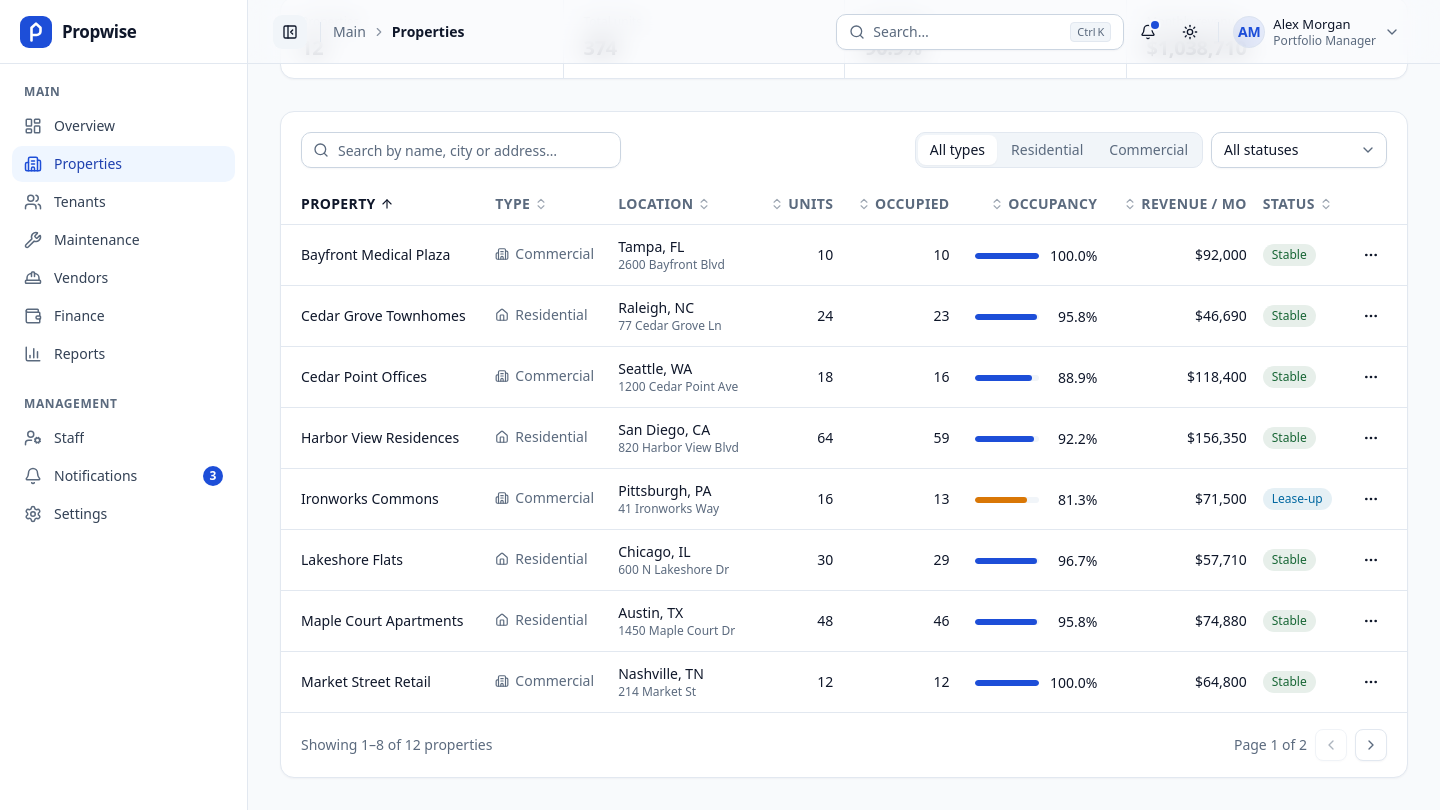
Scenario: Properties listing › opens property actions
(page scrolled)
Click the button named "Actions for Maple Court Apartments" at (1371, 620), box [1355,604,1387,636]
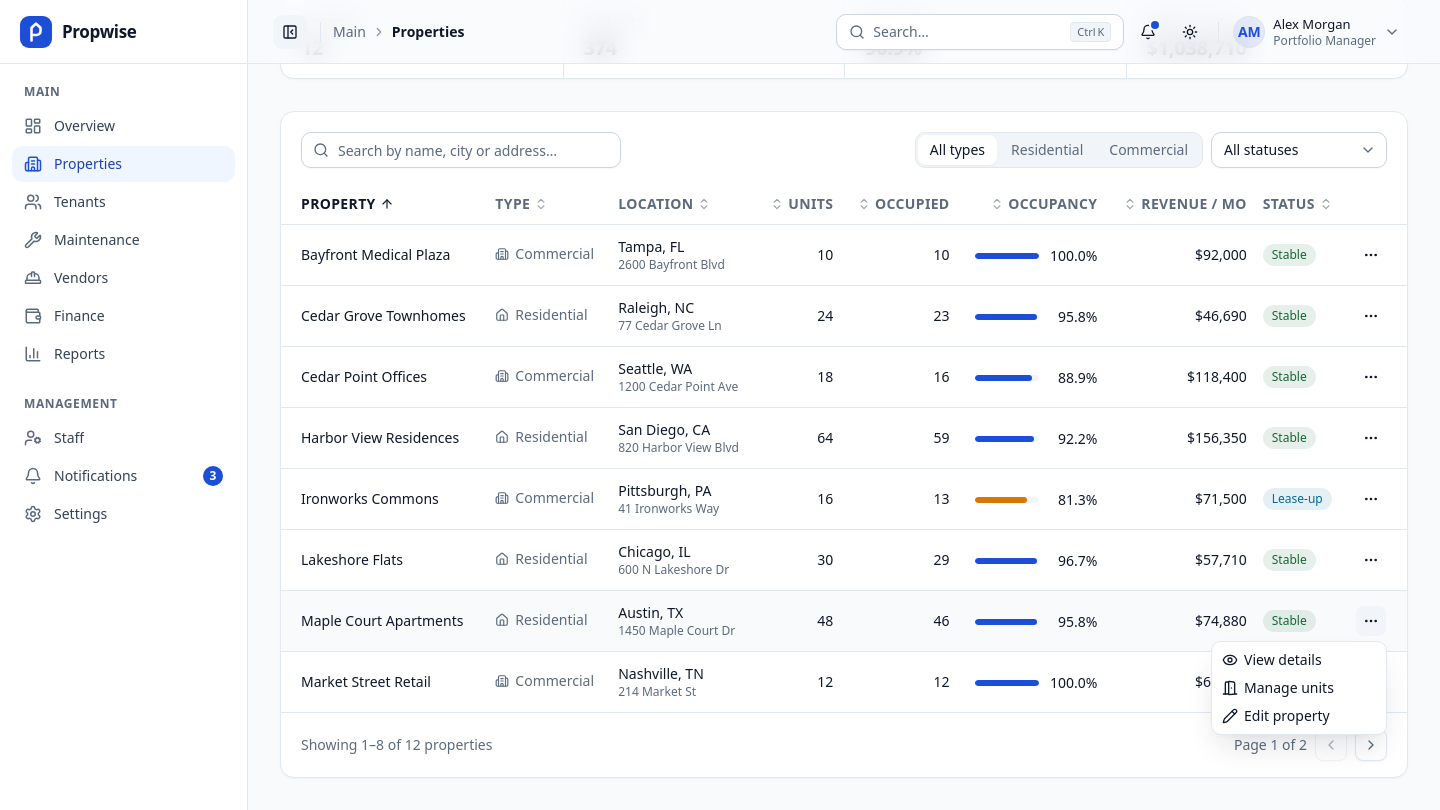
Click the menu item "Edit property" at (1276, 716), box [1222,706,1330,725]
(page scrolled)
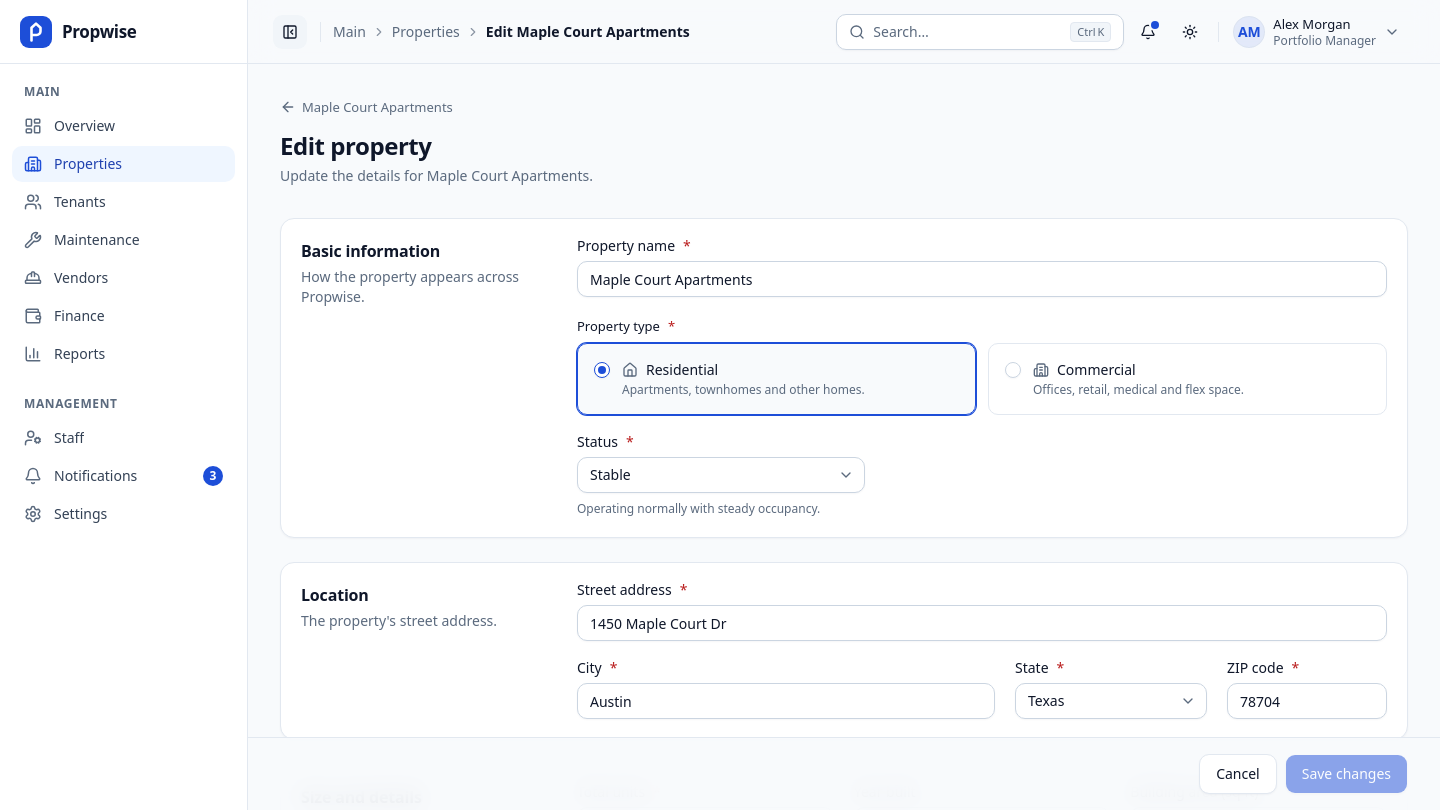
Expected: the heading "Edit property" is shown, [280,130,432,162]
